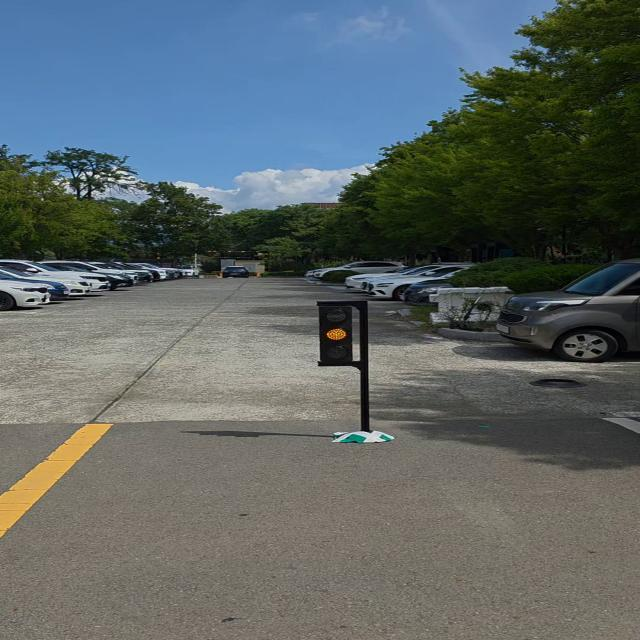yellow: (319, 301, 354, 368)
